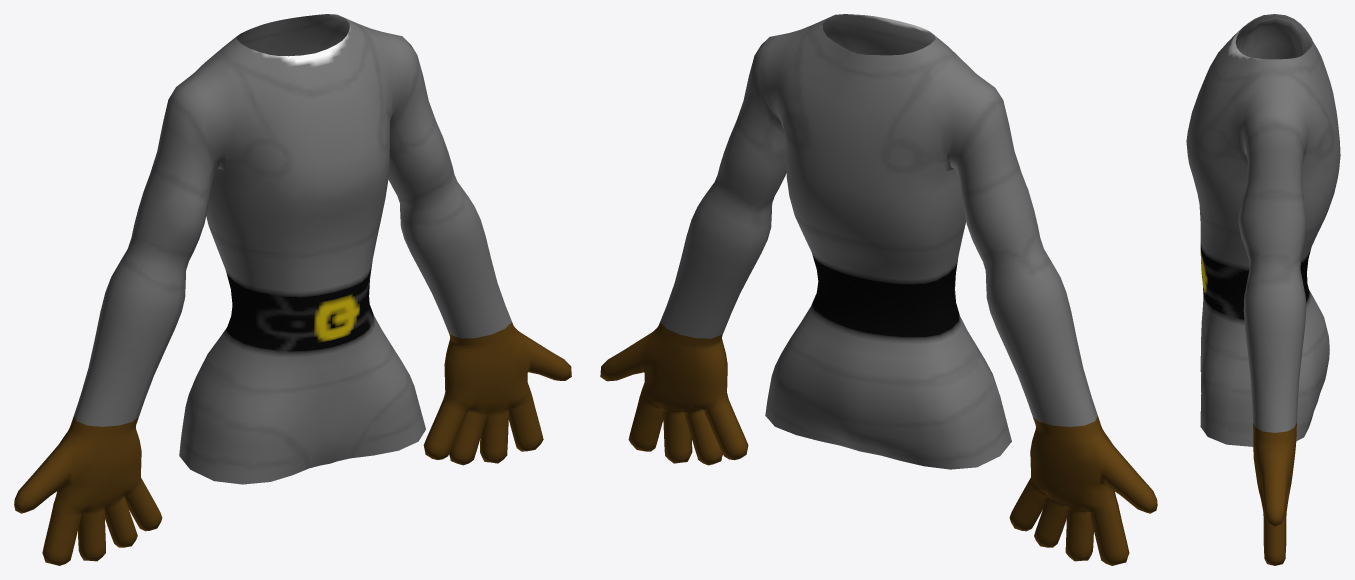
File: PickupArmourFullPlateMail.dae
3 views of the same model, side by side, from view 1: azimuth 30°, elevation 25°; view 2: azimuth 150°, elevation 25°; view 3: azimuth 270°, elevation 25° (orthographic). The views are drawn at different scales.
Visible parts, largest first — view 1: PickupArmourFullPlate; view 2: PickupArmourFullPlate; view 3: PickupArmourFullPlate.
Boxes of the visible parts, box(x1,y1,x2,y2) form: PickupArmourFullPlate: box(14, 14, 571, 565); PickupArmourFullPlate: box(600, 14, 1157, 565); PickupArmourFullPlate: box(1186, 14, 1340, 565).
Bounding box in the file's own units: 1.14 × 0.3062 × 0.9414.
1 material, 1 textured.
